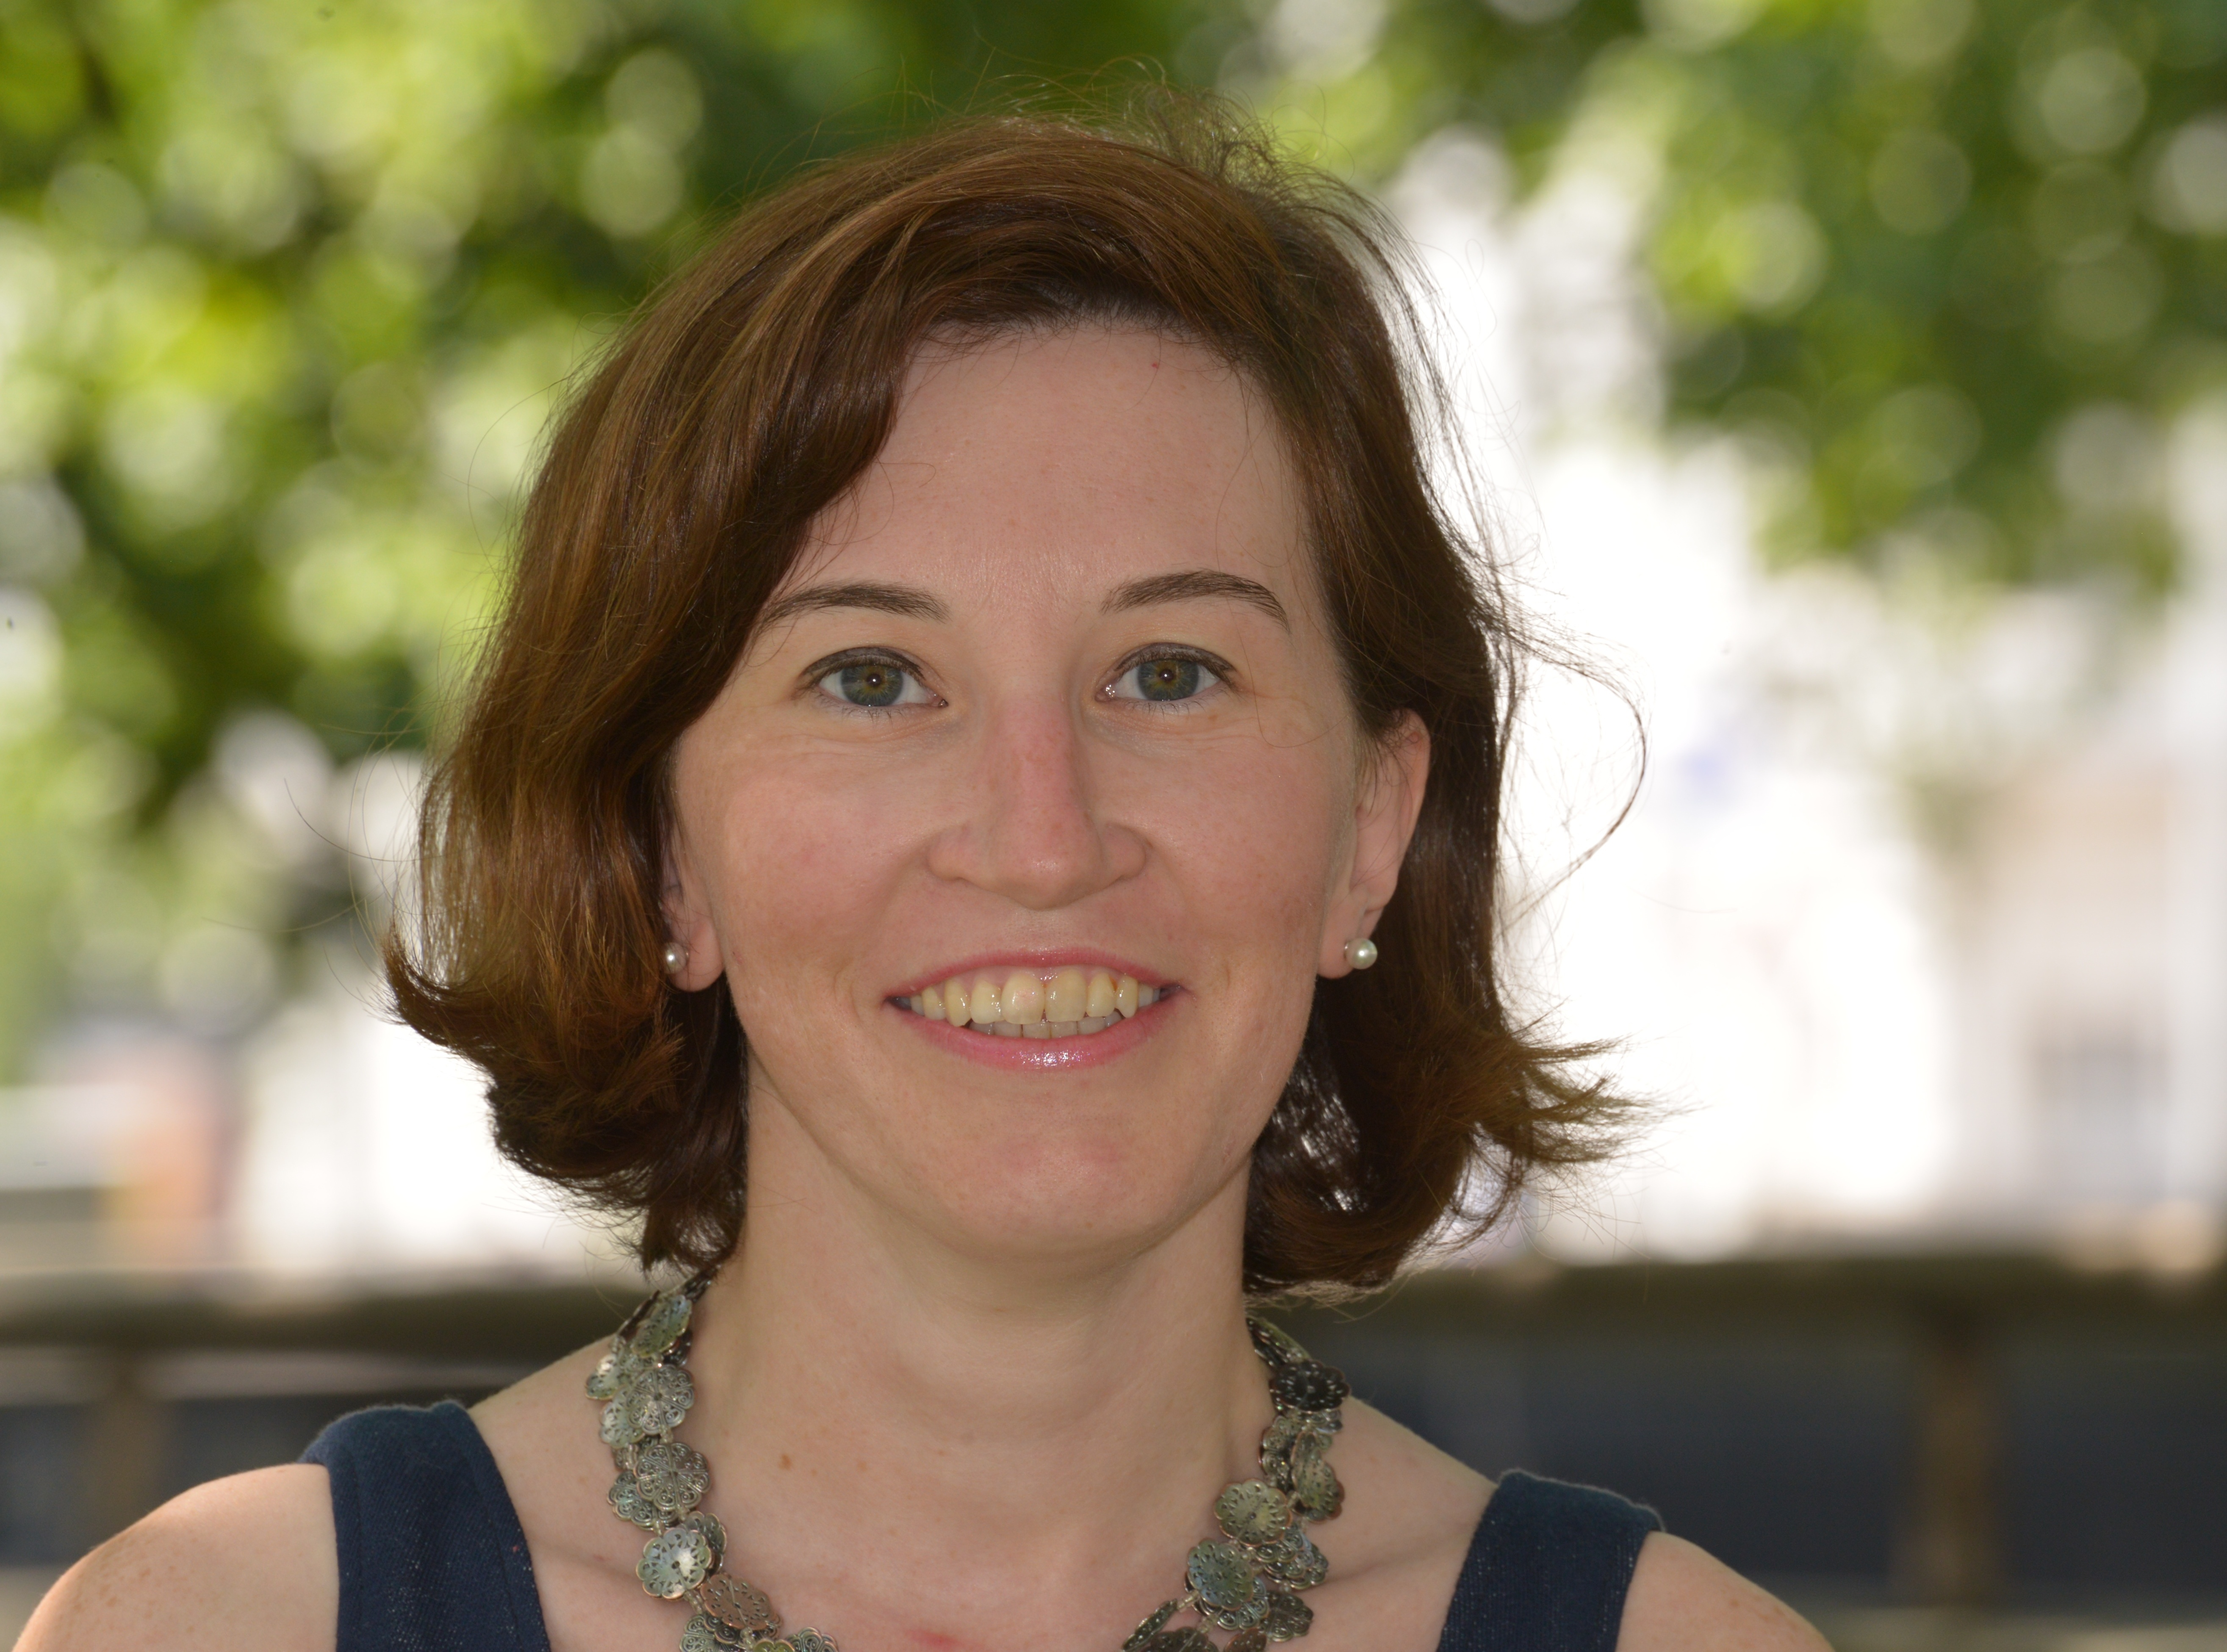mouth: (871, 939, 1187, 1086)
nose: (918, 812, 1154, 911)
